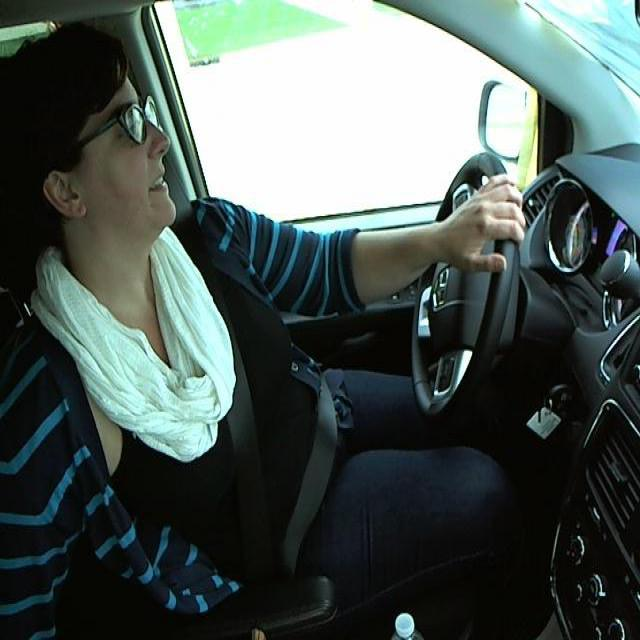seatbelt: (182, 235, 338, 561)
